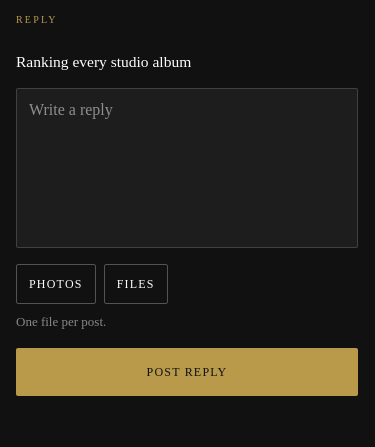
Test: ComposerScreen › uses a pending smoke attachment when Inject is pressed
Click the button with test id "forum-composer-attach-files": point(136, 284) [104,264,168,304]
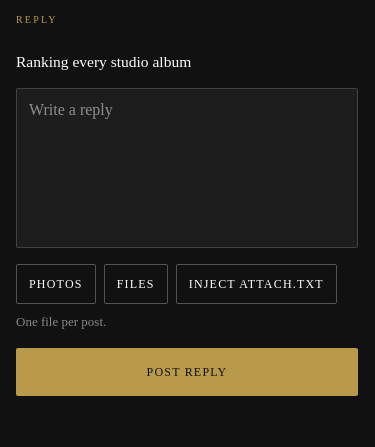
Click the button with test id "forum-composer-attach-inject": point(256, 284) [176,264,337,304]
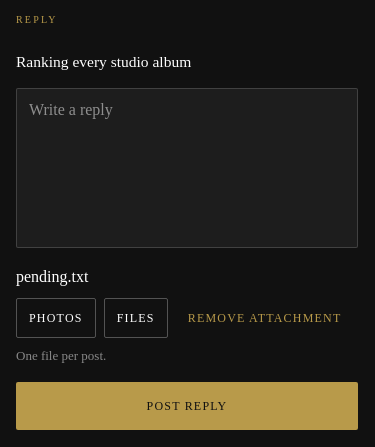
Now the text "pending.txt" is shown, box [16,268,88,285]
